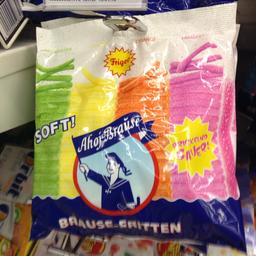candy: (33, 12, 232, 242)
